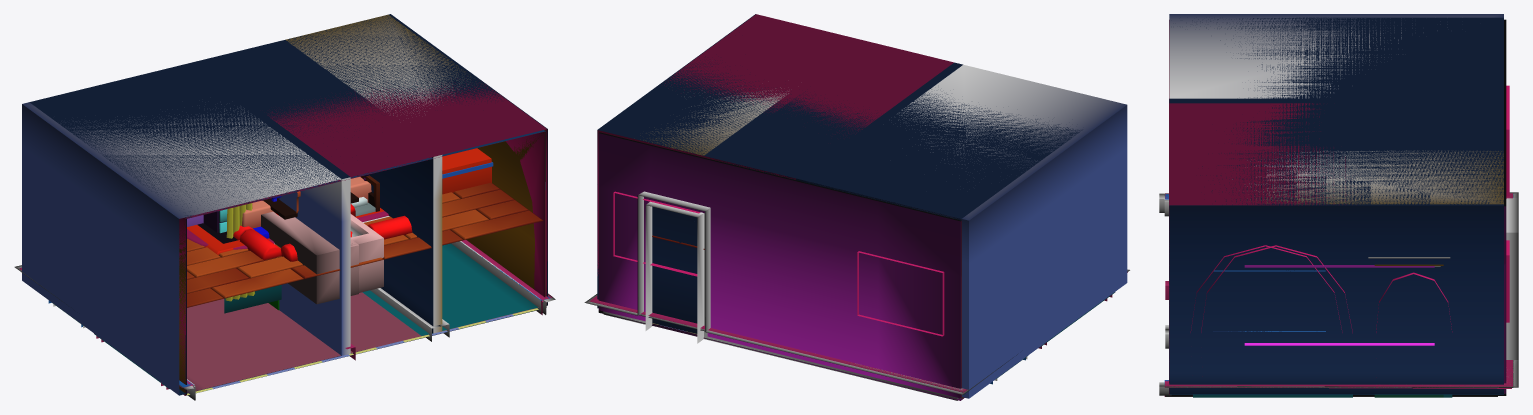
File: ElementosdeEscena.FBX
The picture shows the model from 3 angles, left to right: view 1: azimuth 30°, elevation 25°; view 2: azimuth 150°, elevation 25°; view 3: azimuth 270°, elevation 25°; orthographic projection. The views are drawn at different scales.
Visible parts, largest first — view 1: Cuarto12, Cuarto1, Cuarto2, Suelo1, Cuarto3, Modular3, Cuarto6, Sofa1, Alacena2, Modular1, Cuarto9, Ducha2 (+5 smaller); view 2: CuartoKameHouse, Cuarto12, Cuarto2, Cuarto1, Cuarto5, Cuarto7, Cuarto10, CuartoBase, Cuarto11; view 3: Cuarto1, Cuarto2, Cuarto12, CuartoKameHouse, Cuarto7, Cuarto6, Cuarto13, Cuarto9, Cuarto3, Cuarto11, Cuarto10, Cuarto8.
Part boxes in pixels (x1=…): Cuarto12: x1=22, y1=78, x2=547, y2=395; Cuarto1: x1=30, y1=14, x2=547, y2=388; Cuarto2: x1=29, y1=14, x2=545, y2=399; Suelo1: x1=187, y1=182, x2=543, y2=307; Cuarto3: x1=179, y1=132, x2=544, y2=394; Modular3: x1=261, y1=200, x2=358, y2=304; Cuarto6: x1=179, y1=131, x2=544, y2=392; Sofa1: x1=226, y1=215, x2=412, y2=261; Alacena2: x1=187, y1=148, x2=491, y2=226; Modular1: x1=350, y1=214, x2=383, y2=292; Cuarto9: x1=48, y1=130, x2=550, y2=395; Ducha2: x1=224, y1=203, x2=281, y2=313; CuartoKameHouse: x1=584, y1=132, x2=1129, y2=400; Cuarto12: x1=597, y1=14, x2=1127, y2=398; Cuarto2: x1=634, y1=62, x2=1082, y2=331; Cuarto1: x1=597, y1=14, x2=1063, y2=330; Cuarto5: x1=652, y1=206, x2=1027, y2=392; Cuarto7: x1=590, y1=292, x2=1115, y2=391; Cuarto10: x1=857, y1=251, x2=944, y2=336; CuartoBase: x1=598, y1=310, x2=964, y2=400; Cuarto11: x1=590, y1=191, x2=963, y2=390; Cuarto1: x1=1169, y1=17, x2=1503, y2=393; Cuarto2: x1=1164, y1=17, x2=1512, y2=396; Cuarto12: x1=1164, y1=14, x2=1511, y2=396; CuartoKameHouse: x1=1159, y1=19, x2=1518, y2=395; Cuarto7: x1=1165, y1=193, x2=1512, y2=397; Cuarto6: x1=1190, y1=245, x2=1513, y2=397; Cuarto13: x1=1165, y1=20, x2=1461, y2=386; Cuarto9: x1=1164, y1=194, x2=1513, y2=394; Cuarto3: x1=1164, y1=195, x2=1513, y2=397; Cuarto11: x1=1169, y1=240, x2=1509, y2=386; Cuarto10: x1=1169, y1=33, x2=1509, y2=205; Cuarto8: x1=1165, y1=193, x2=1511, y2=397.
Size of the model in its own units: 683 by 318 by 531.
